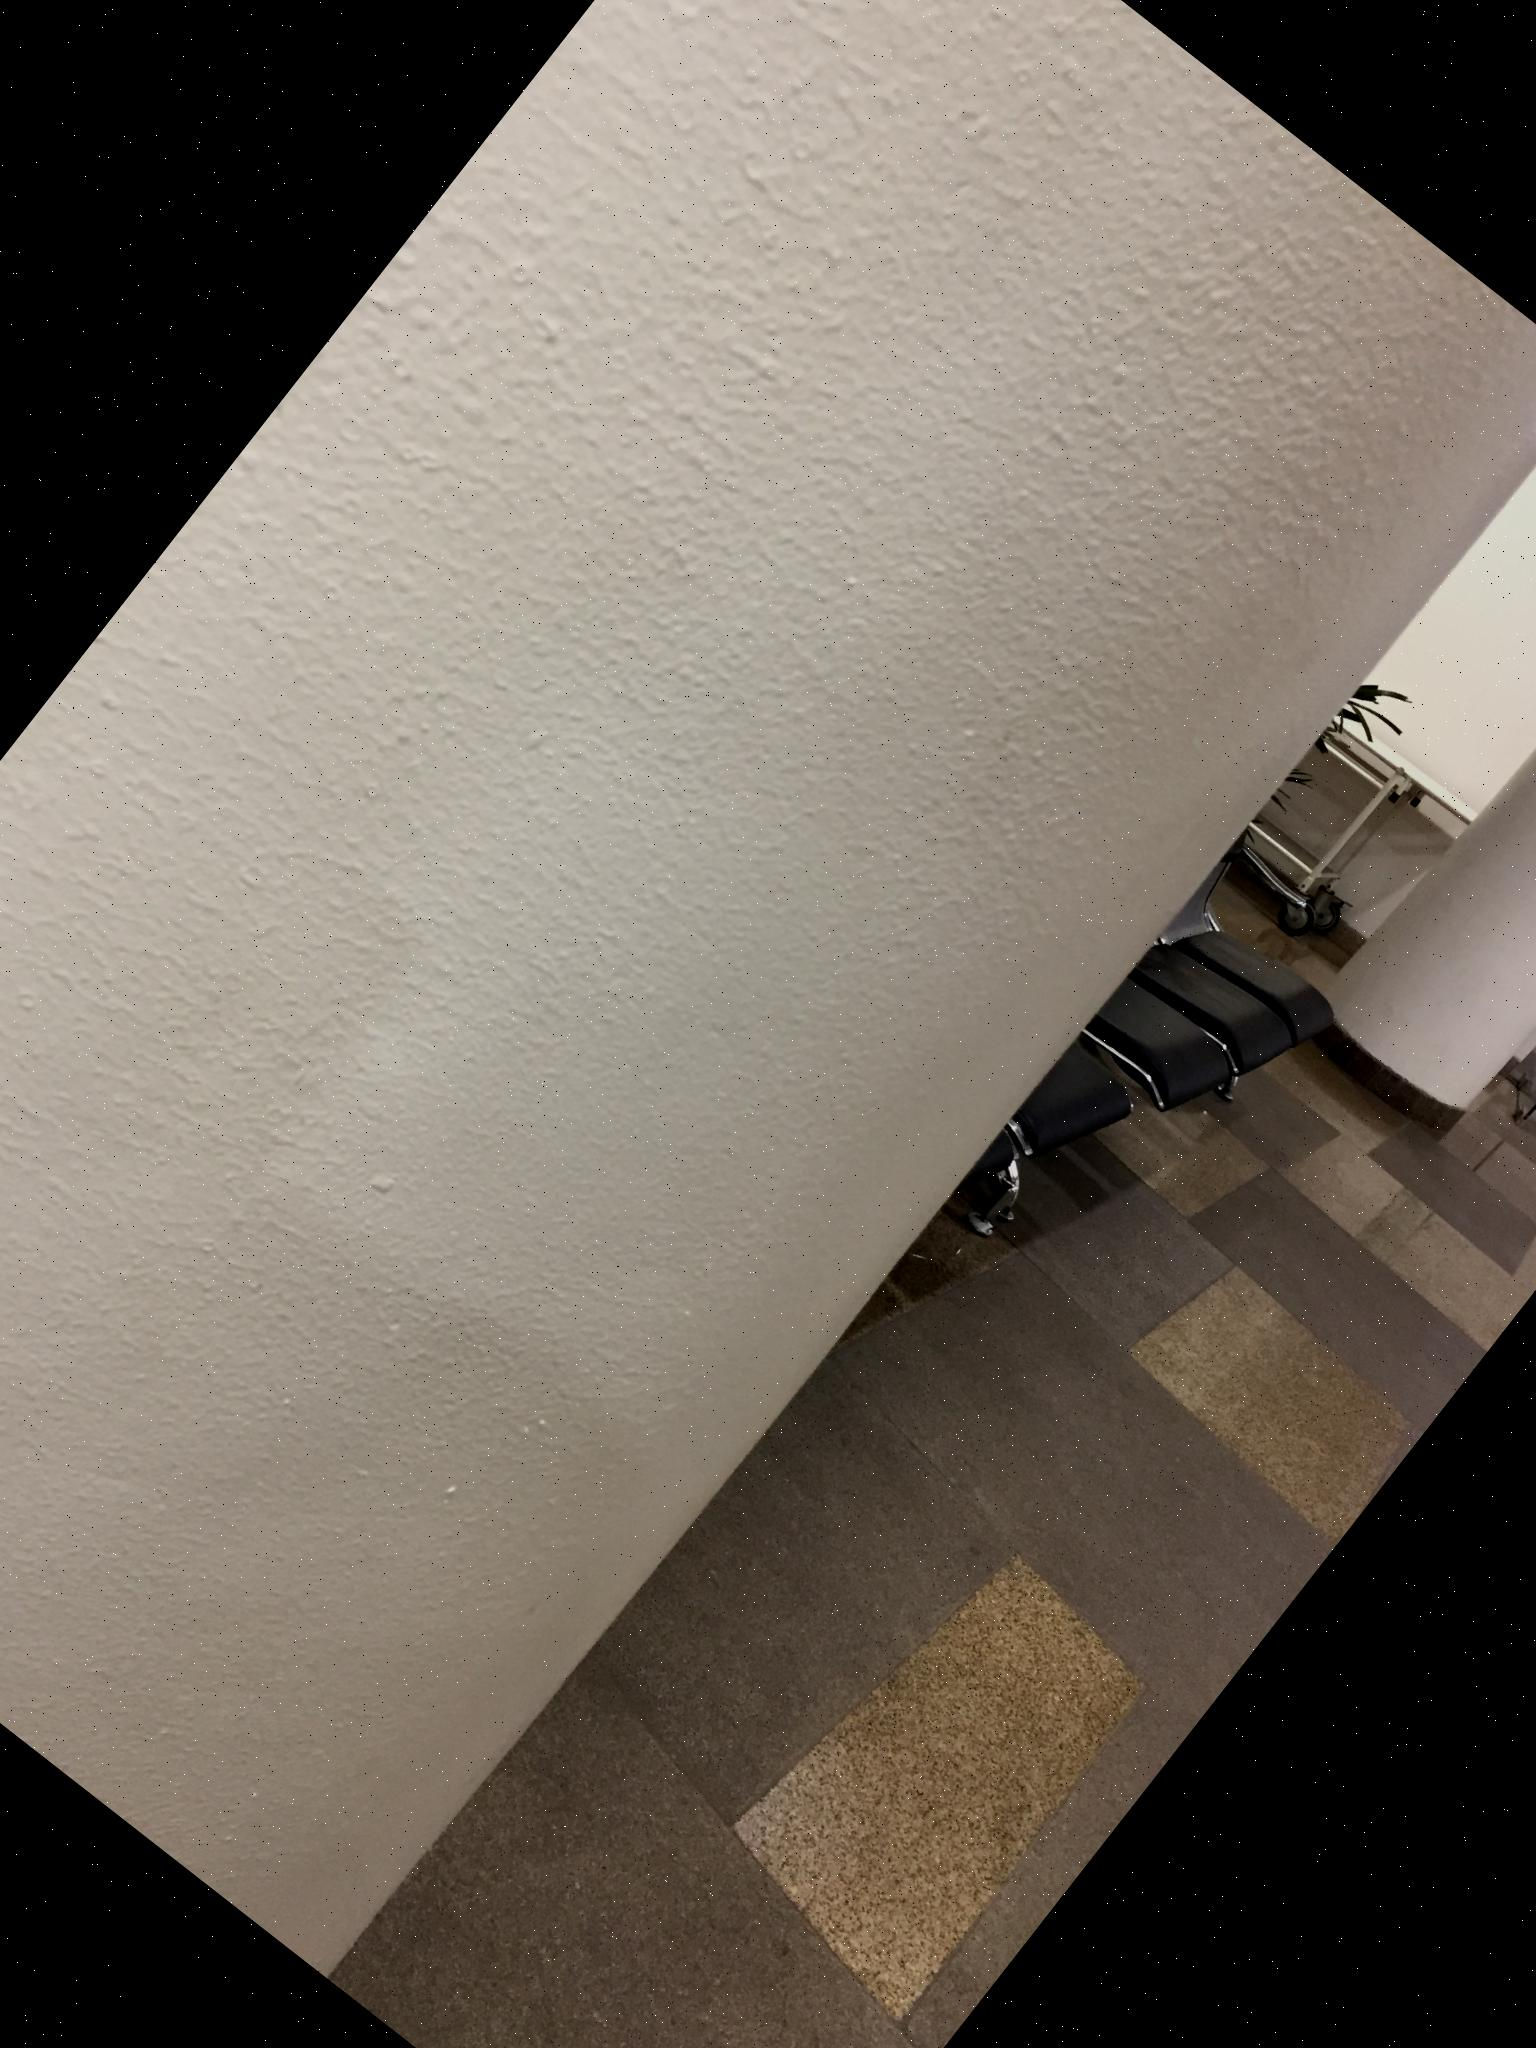chair: (787, 682, 1489, 1464)
